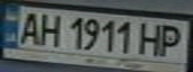1: (63, 14, 84, 50), (115, 18, 136, 54), (100, 17, 118, 53)
9: (81, 16, 103, 52)
A: (15, 8, 45, 45)
H: (136, 20, 166, 56), (36, 10, 63, 47)
P: (154, 23, 190, 57)
